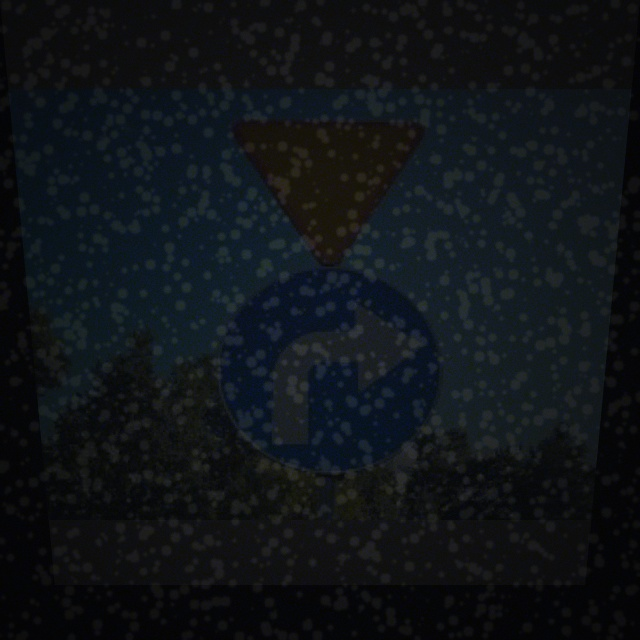Compulsory_Turn_Right_Ahead: (215, 270, 447, 469)
